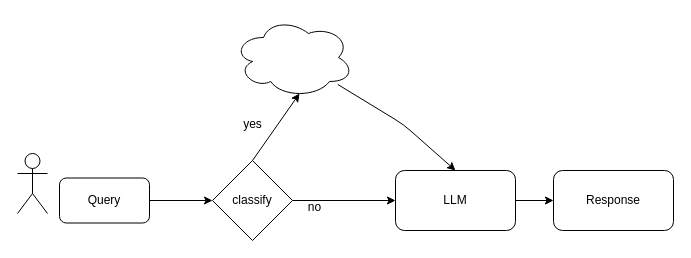
This 691x258 diagram has some shape labels left out. Here are the shapes that lost their labels. From the top down, the centre of each, then its label:
At [293,57]: "Web Search".
At [32,183]: "Actor".
